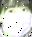with_mask: (1, 2, 32, 37)
